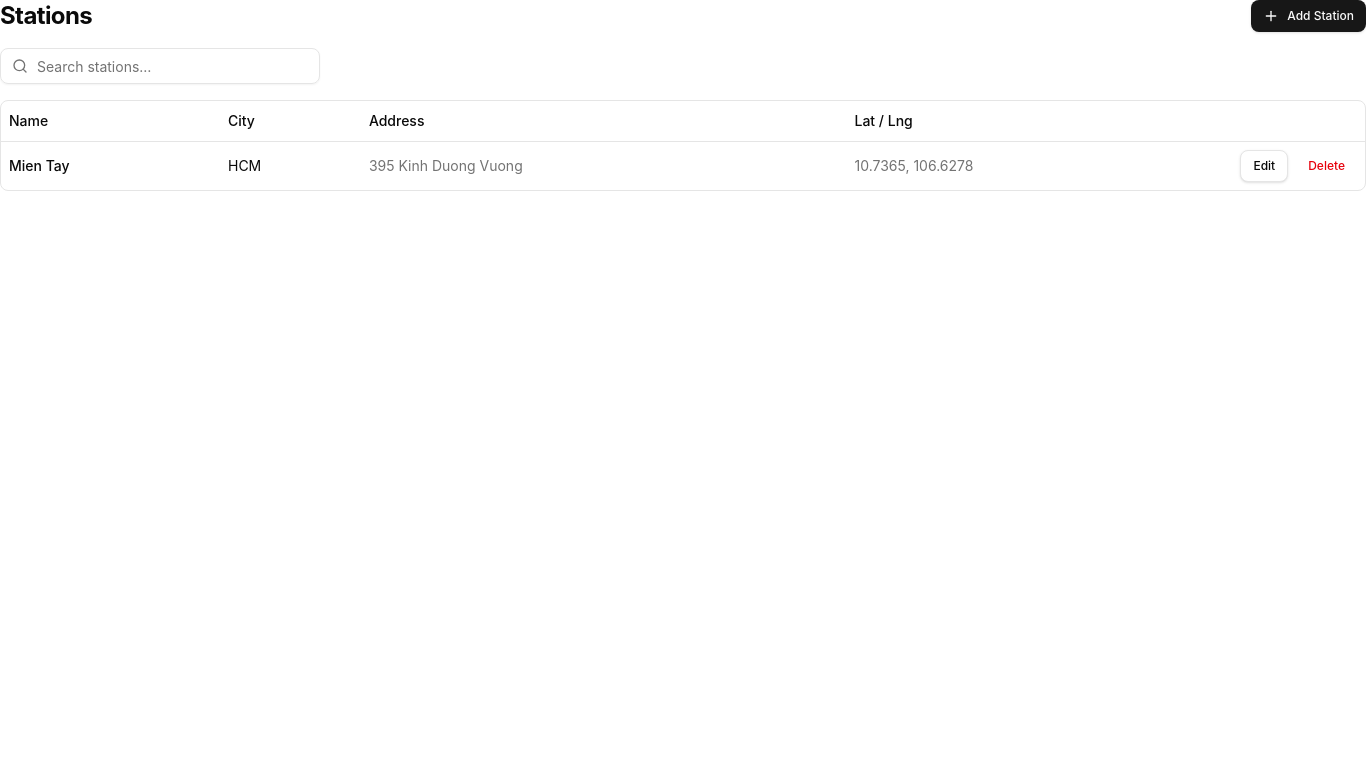
Scenario: StationsPage › closes edit dialog and resets on close
Click the button "Edit" at (1264, 166), box top-left (1240, 150), bottom-right (1288, 182)
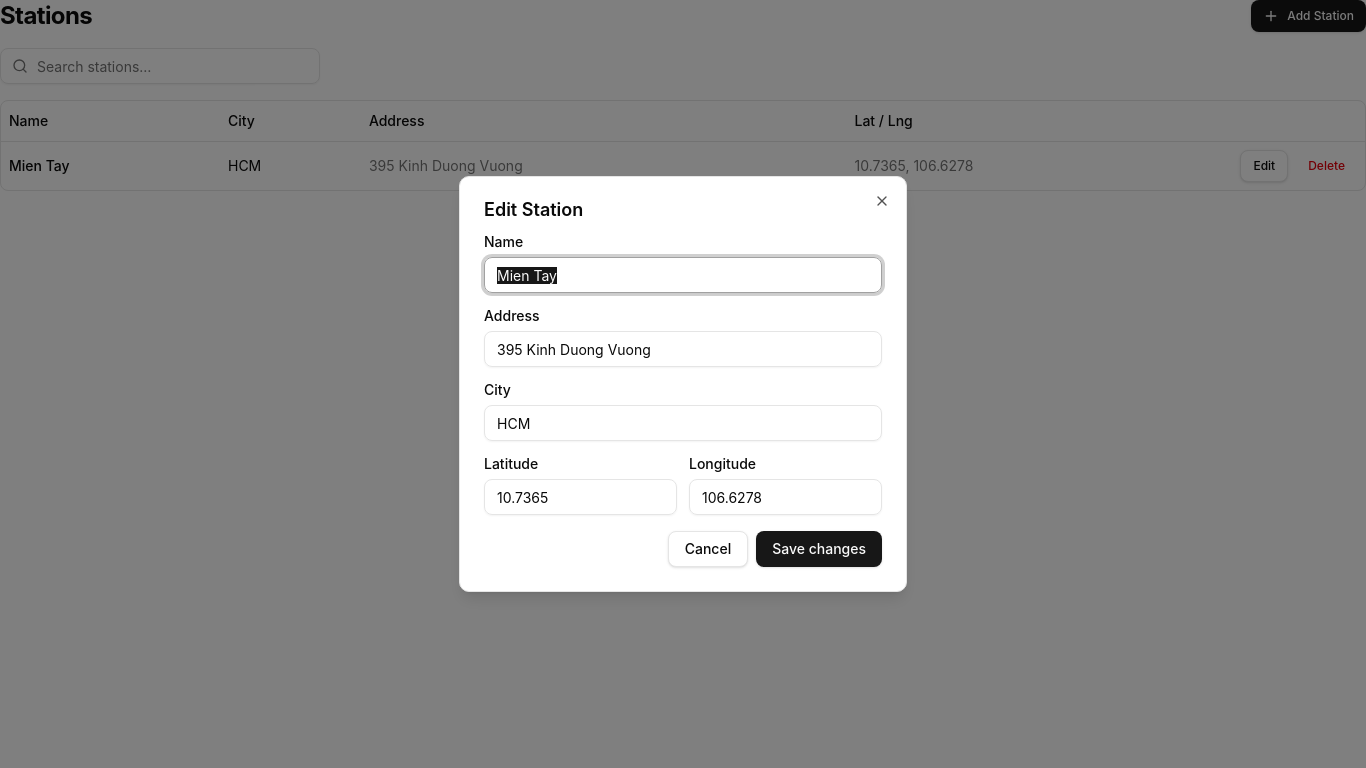
Result: the heading "Edit Station" is shown at top-left (484, 199), bottom-right (583, 220)
Click the button "Cancel" at (708, 549), box top-left (668, 531), bottom-right (748, 567)
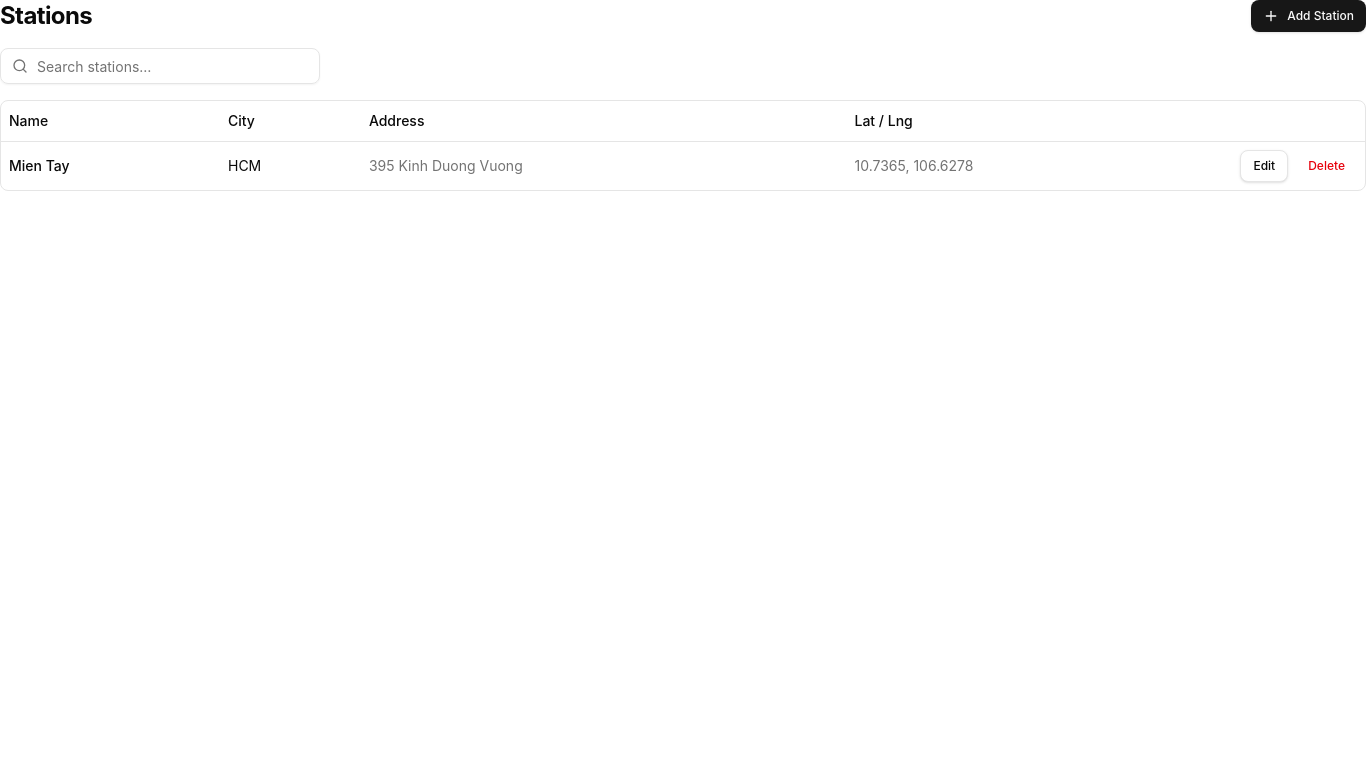
Result: the dialog is gone
// After closing edit, Add Station opens a fresh create form
Click the button "Add Station" at (1309, 16), box top-left (1251, 0), bottom-right (1365, 32)
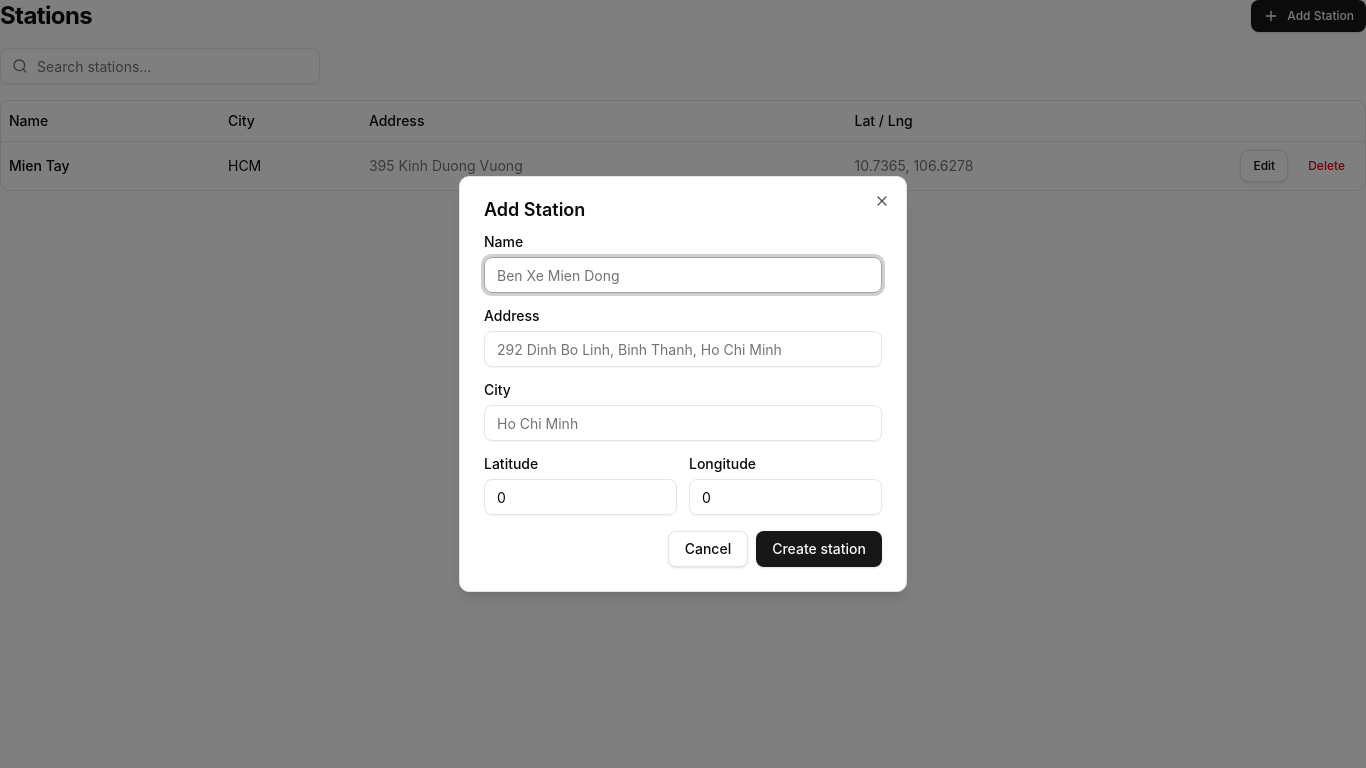
Result: the dialog is shown at top-left (459, 176), bottom-right (907, 592)
Result: the button "Create station" is shown at top-left (756, 531), bottom-right (882, 567)
